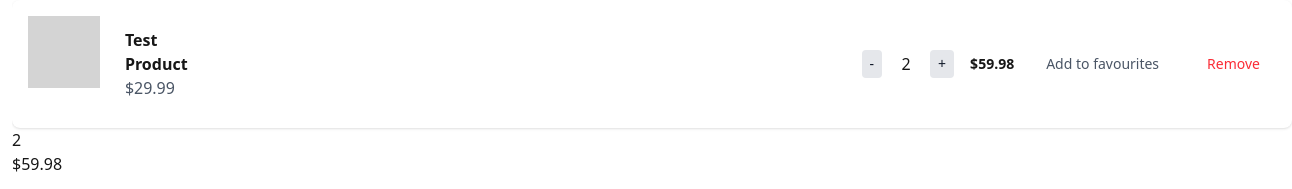
Test: CartItem › Button Functionality › shows the server error inline when Add to favourites fails
This screenshot has width=1292, height=189.
Click the button named "Add Test Product to favourites". click: (1103, 64)
box: x1=1030 y1=46 x2=1175 y2=82
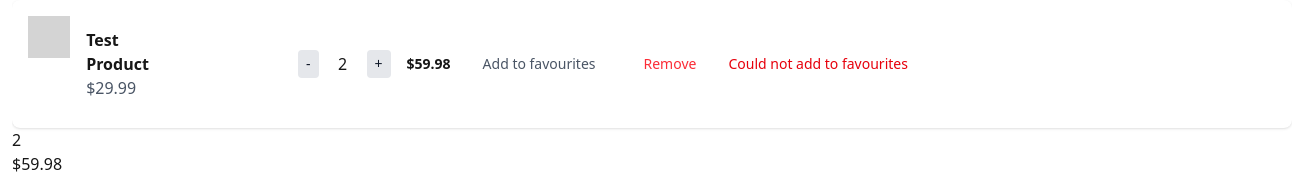
Expected: the text with test id "item-quantity" reads "2", x1=338 y1=53 x2=347 y2=75
Expected: the message with test id "add-to-favourites-error" reads "Could not add to favourites", x1=728 y1=54 x2=908 y2=73
